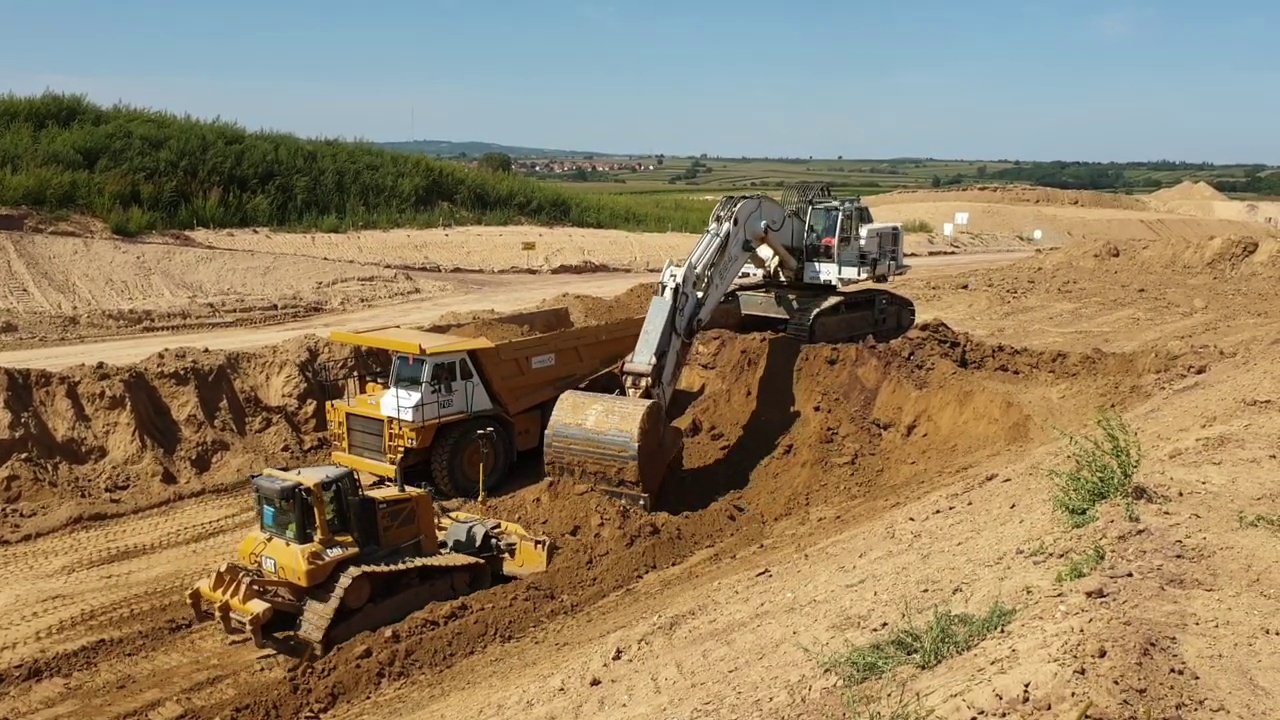bulldozer: (183, 421, 556, 664)
excavator: (535, 181, 922, 496)
truck: (312, 300, 668, 512)
